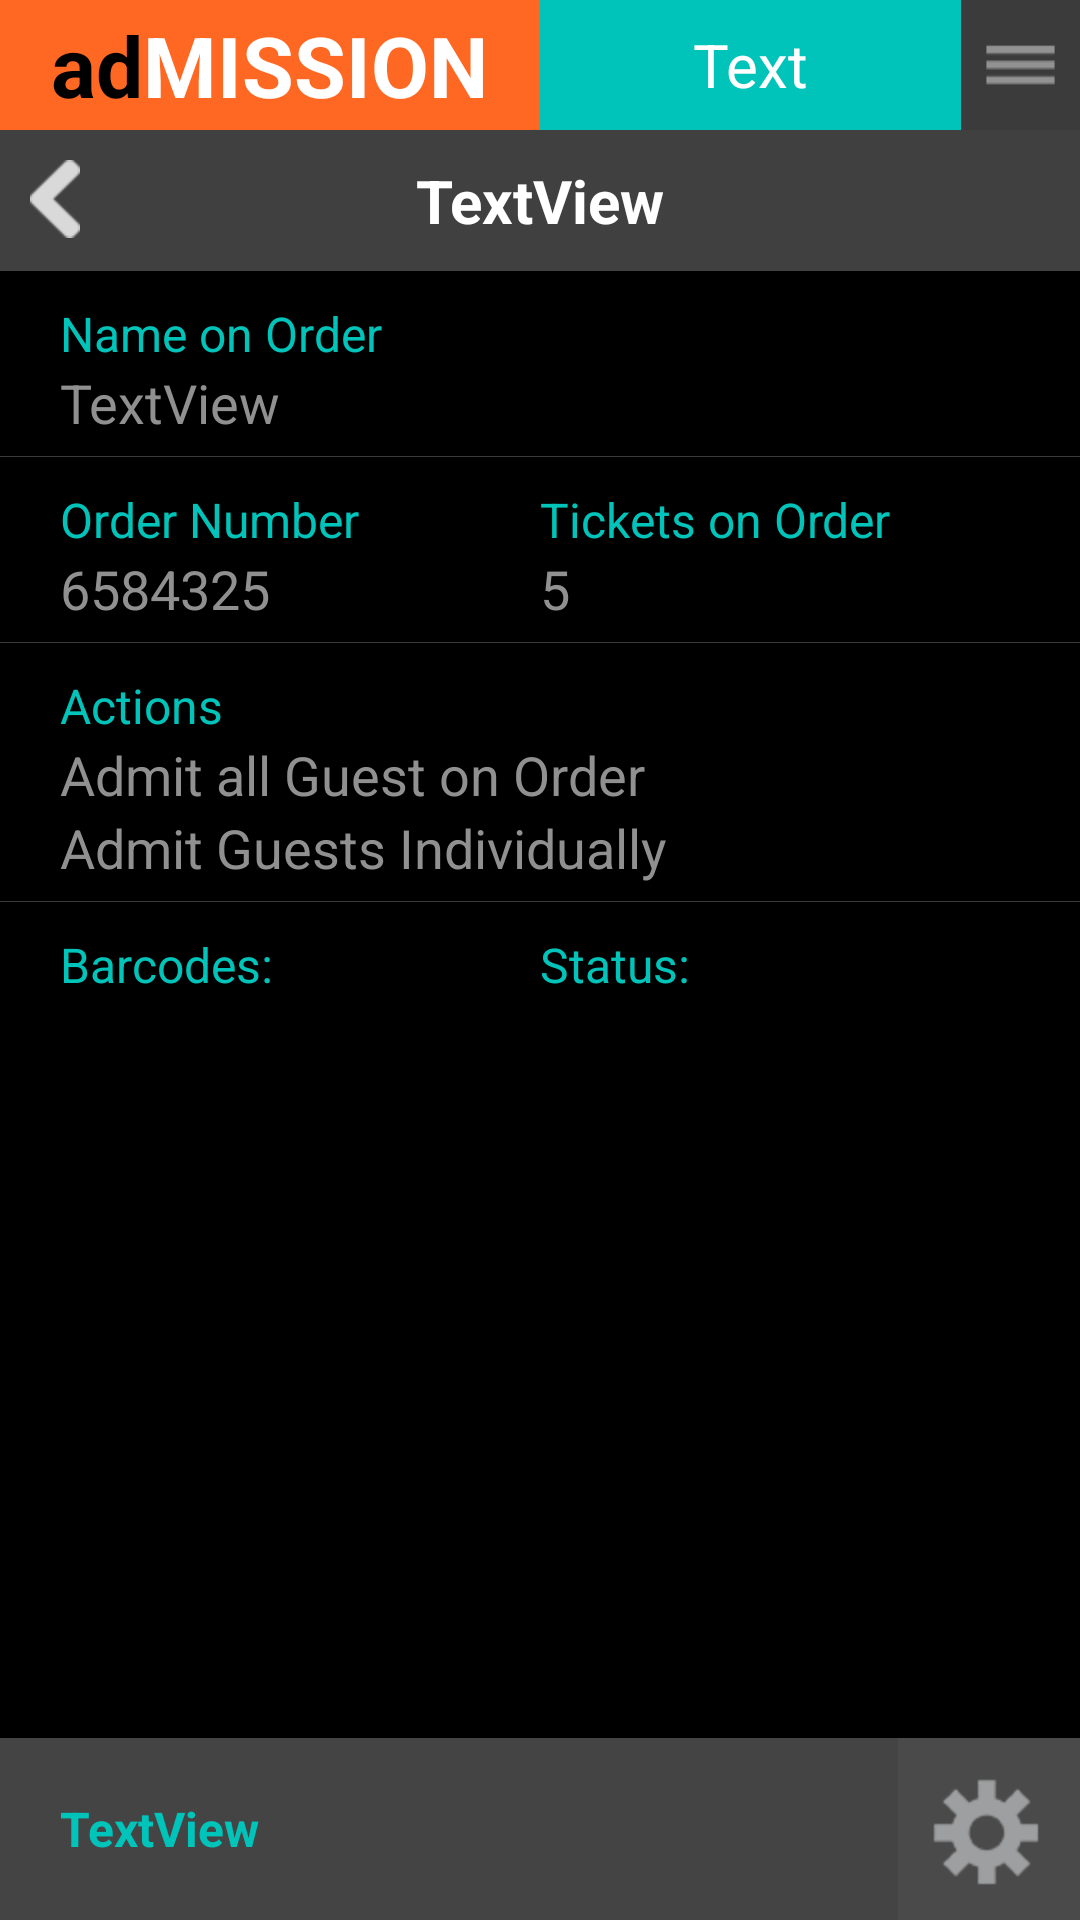

Named icons in this screenshot (1080px×1920px) and their bounding boxes, [left=x1, top=y1, right=x2, bottom=y2]:
arrow: [left=30, top=160, right=80, bottom=238]
menu: [left=986, top=45, right=1055, bottom=84]
